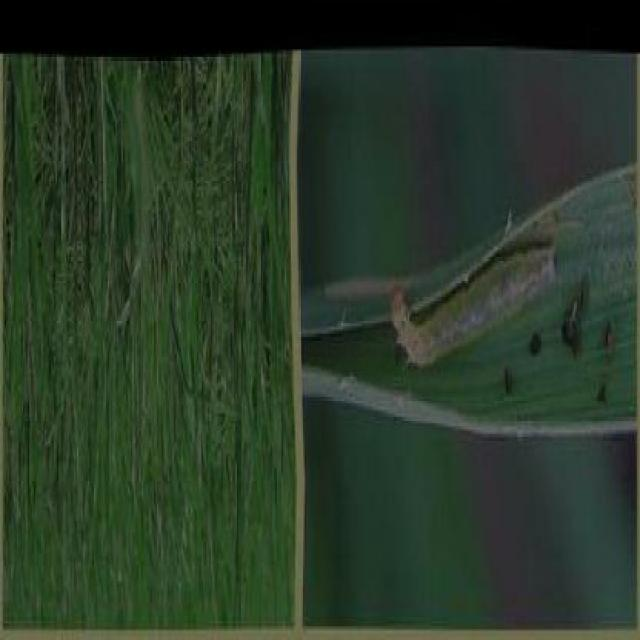leaf-folder: (370, 189, 582, 411)
